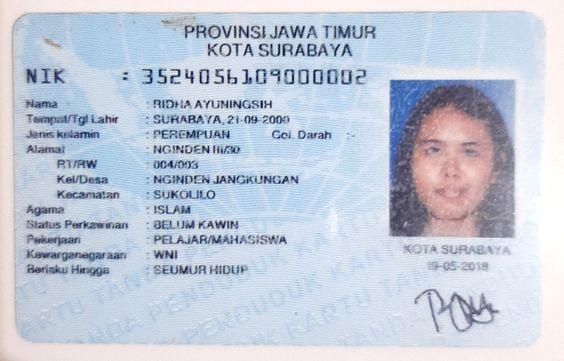ID-card: (10, 15, 538, 338)
